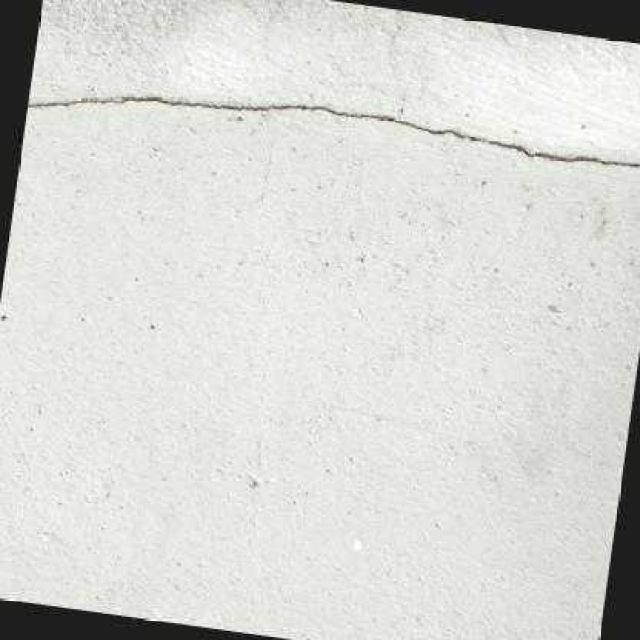D00: (27, 92, 640, 165)
